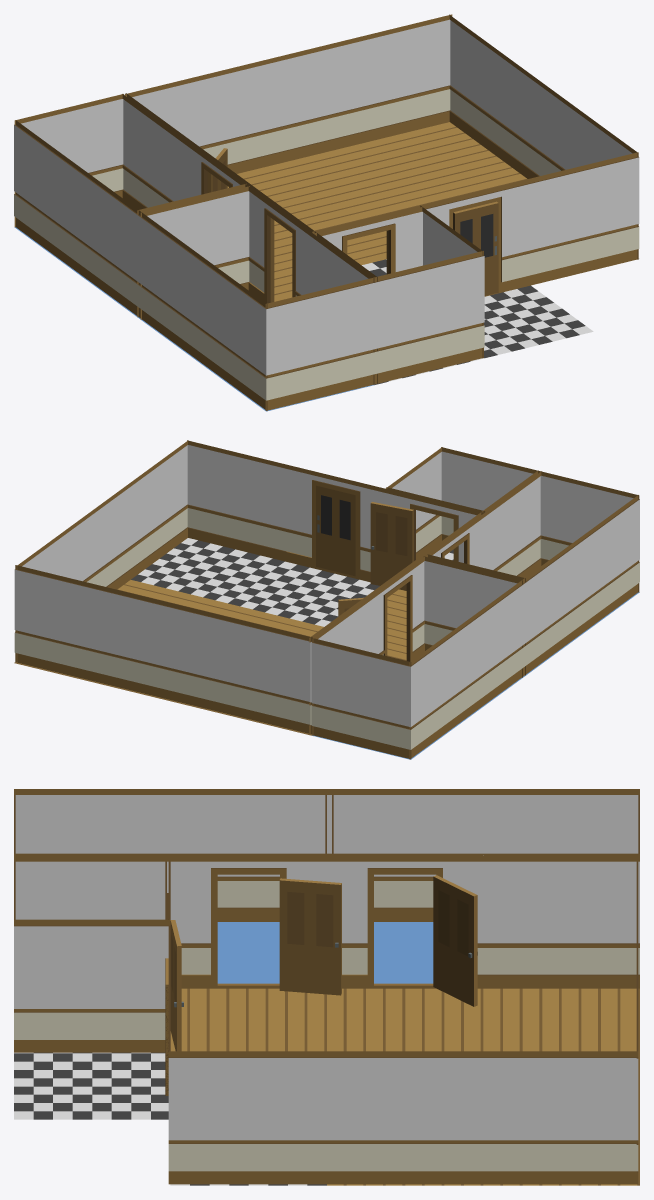
The model's file is house 1.fbx.
3 renders of one model, top to bottom at view 1: azimuth 30°, elevation 25°; view 2: azimuth 150°, elevation 25°; view 3: azimuth 270°, elevation 25°, orthographic. The views are drawn at different scales.
Parts seen in each view (by area): view 1: Wall_02_Grey.011, Wall_02_Grey.006, Wall_02_Grey.015, Wall_02_Grey.020, Wall_02_Grey.021, Wall_02_Grey.007, Wall_02_Grey.018, Wall_02_Grey.001, Wall_02_Grey.003, Wall_02_Grey.005, Floor_Wood.007, Floor_Wood.005 (+17 smaller); view 2: Wall_02_Grey.021, Wall_02_Grey.004, Wall_02_Grey.015, Wall_02_Grey.020, Wall_02_Grey.019, Wall_02_Grey.007, Wall_02_Grey.003, Wall_02_Grey.005, Wall_02_Grey.016, Wall_02_Grey.001, Floor_Carpet_Tiles.001, Wall_Door_02_Grey.005 (+18 smaller); view 3: Wall_02_Grey.016, Wall_02_Grey.018, Wall_02_Grey.017, Wall_02_Grey.013, Wall_02_Grey.014, Wall_02_Grey.005, Wall_02_Grey.003, Floor_Carpet_Tiles.004, Wall_02_Grey.001, Wall_02_Grey.007, Floor_Wood.004, Wall_02_Grey.012 (+11 smaller).
Boxes of the visible parts, x1,y1,x2,y2 form: Wall_02_Grey.011: (374, 251, 484, 384); Wall_02_Grey.006: (265, 277, 375, 410); Wall_02_Grey.015: (529, 152, 639, 285); Wall_02_Grey.020: (233, 41, 342, 173); Wall_02_Grey.021: (342, 14, 452, 147); Wall_02_Grey.007: (203, 258, 267, 410); Wall_02_Grey.018: (449, 14, 513, 167); Wall_02_Grey.001: (14, 120, 78, 272); Wall_02_Grey.003: (77, 166, 141, 318); Wall_02_Grey.005: (140, 212, 204, 364); Floor_Wood.007: (343, 122, 510, 192); Floor_Wood.005: (237, 148, 404, 218); Wall_02_Grey.021: (14, 565, 114, 685); Wall_02_Grey.004: (311, 638, 411, 759); Wall_02_Grey.015: (187, 440, 286, 561); Wall_02_Grey.020: (114, 589, 213, 710); Wall_02_Grey.019: (213, 613, 312, 734); Wall_02_Grey.007: (581, 495, 639, 633); Wall_02_Grey.003: (467, 579, 525, 717); Wall_02_Grey.005: (524, 537, 582, 675); Wall_02_Grey.016: (130, 440, 188, 578); Wall_02_Grey.001: (409, 621, 467, 759); Floor_Carpet_Tiles.001: (131, 538, 284, 603); Wall_Door_02_Grey.005: (286, 464, 384, 582); Wall_02_Grey.016: (168, 1051, 325, 1184); Wall_02_Grey.018: (481, 1051, 638, 1184); Wall_02_Grey.017: (325, 1051, 481, 1184); Wall_02_Grey.013: (483, 856, 639, 988); Wall_02_Grey.014: (14, 919, 170, 1052); Wall_02_Grey.005: (170, 789, 326, 921); Wall_02_Grey.003: (327, 789, 483, 921); Floor_Carpet_Tiles.004: (14, 1053, 168, 1119); Wall_02_Grey.001: (483, 789, 639, 853); Wall_02_Grey.007: (14, 789, 170, 853); Floor_Wood.004: (483, 988, 639, 1053); Wall_02_Grey.012: (14, 856, 170, 919).
Size of the model in its own units: 2022 by 474 by 2022.
1 material, 1 textured.
